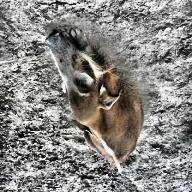boar: (40, 9, 164, 178)
